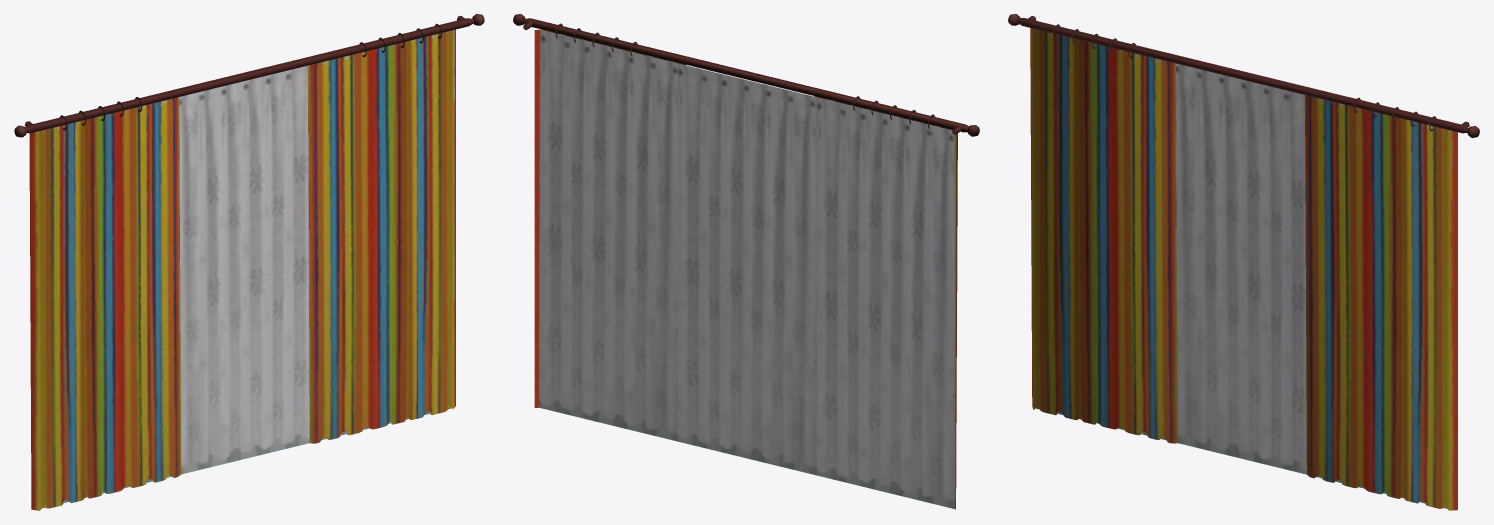
Rendered from furni_0200627.FBX.
3 renders of one model, left to right at view 1: azimuth 30°, elevation 25°; view 2: azimuth 150°, elevation 25°; view 3: azimuth 330°, elevation 25°, orthographic.
Visible parts, largest first — view 1: furni_0200627; view 2: furni_0200627; view 3: furni_0200627.
Boxes of the visible parts, x1,y1,x2,y2 form: furni_0200627: (14,14,484,510); furni_0200627: (513,14,979,509); furni_0200627: (1008,14,1479,510).
Size of the model in its own units: 353 by 280 by 13.37.
Materials: 2 (2 with a texture image).
